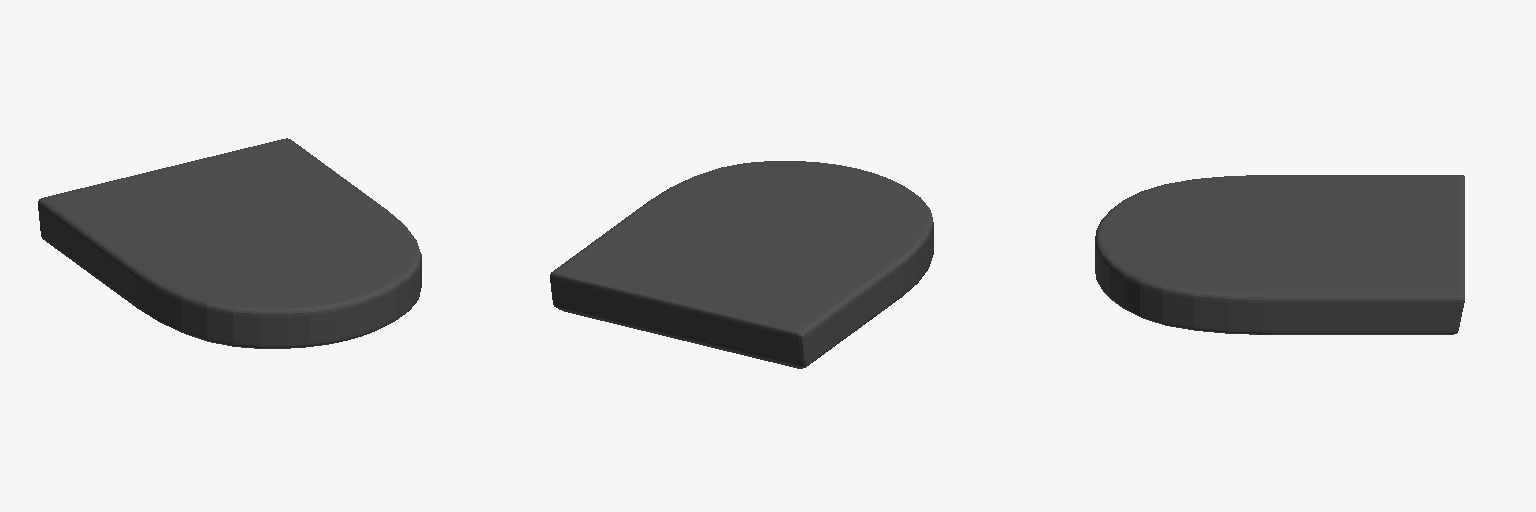
Rendered from toiletSeat.obj.
The picture shows the model from 3 angles: view 1: azimuth 30°, elevation 25°; view 2: azimuth 150°, elevation 25°; view 3: azimuth 270°, elevation 25°; orthographic projection.
Parts seen in each view (by area): view 1: Toilet_OBJ:cover; view 2: Toilet_OBJ:cover; view 3: Toilet_OBJ:cover.
Boxes of the visible parts, box(x1,y1,x2,y2) form: Toilet_OBJ:cover: box(38, 138, 421, 348); Toilet_OBJ:cover: box(550, 161, 933, 368); Toilet_OBJ:cover: box(1095, 175, 1464, 334).
Size of the model in its own units: 6.82 by 1.09 by 8.62.